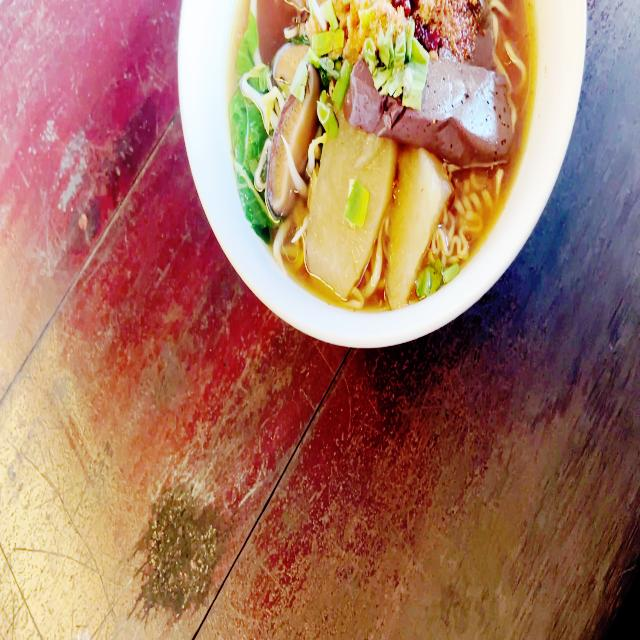boiled_chicken_blood_jelly: (424, 59, 513, 165), (342, 63, 397, 130), (472, 0, 495, 63)
daikon_radish: (312, 154, 446, 294)
noodle: (231, 0, 516, 279)
